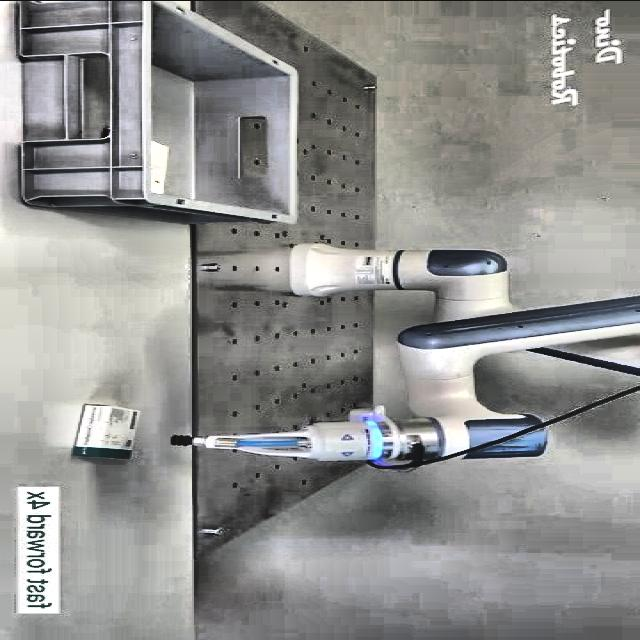robot: (172, 242, 640, 471)
